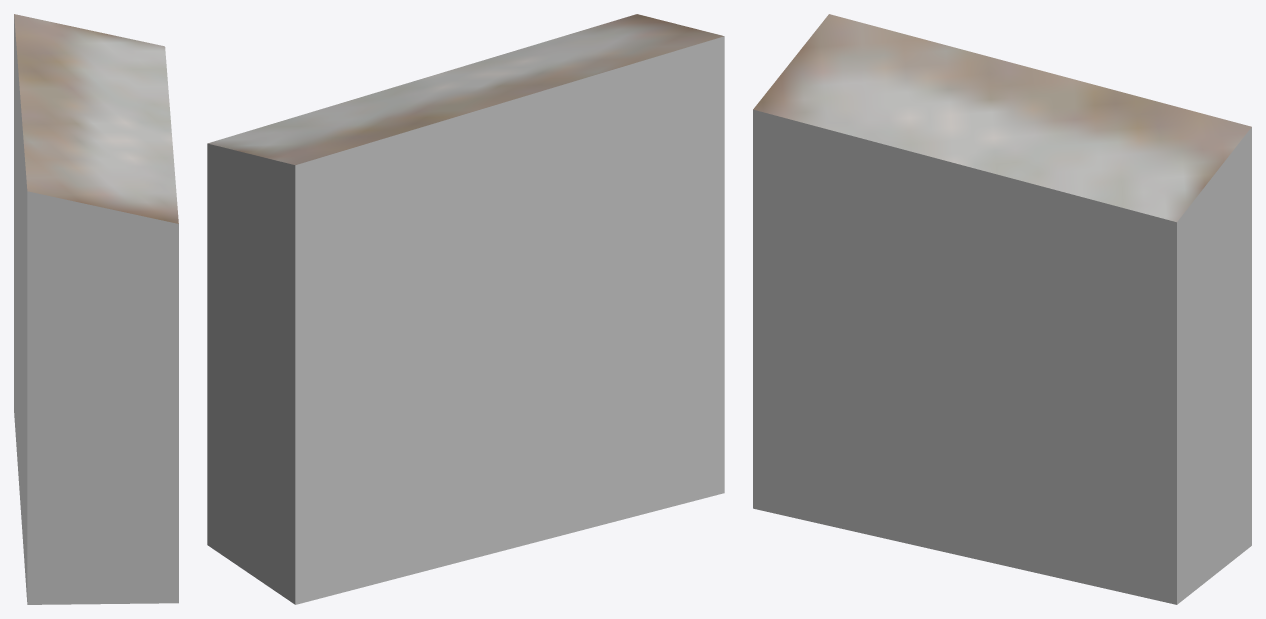
The model's file is DEBW_0010007THYv.gltf.
3 views of the same model, side by side, from view 1: azimuth 30°, elevation 25°; view 2: azimuth 150°, elevation 25°; view 3: azimuth 270°, elevation 25° (orthographic). The views are drawn at different scales.
Visible parts, largest first — view 1: Z_UP; view 2: Z_UP; view 3: Z_UP.
Part boxes in pixels (x1,y1,x2,y2): Z_UP: (14, 14, 178, 604); Z_UP: (207, 14, 724, 604); Z_UP: (753, 14, 1251, 604).
Size of the model in its own units: 3.44 by 4.49 by 4.66.
2 materials, 1 textured.
